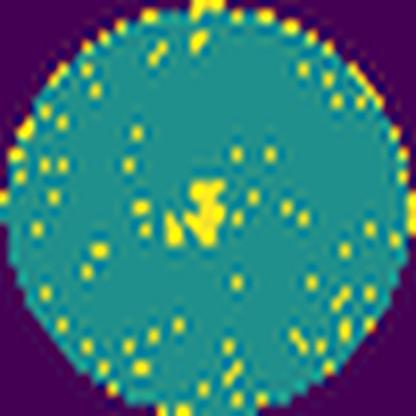Center: (163, 176, 226, 248)
